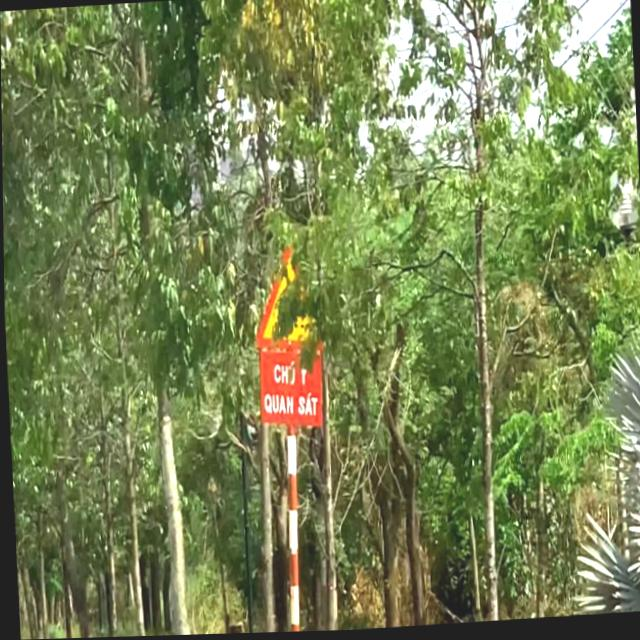Nguoi di bo cat ngang: (250, 242, 326, 355)
